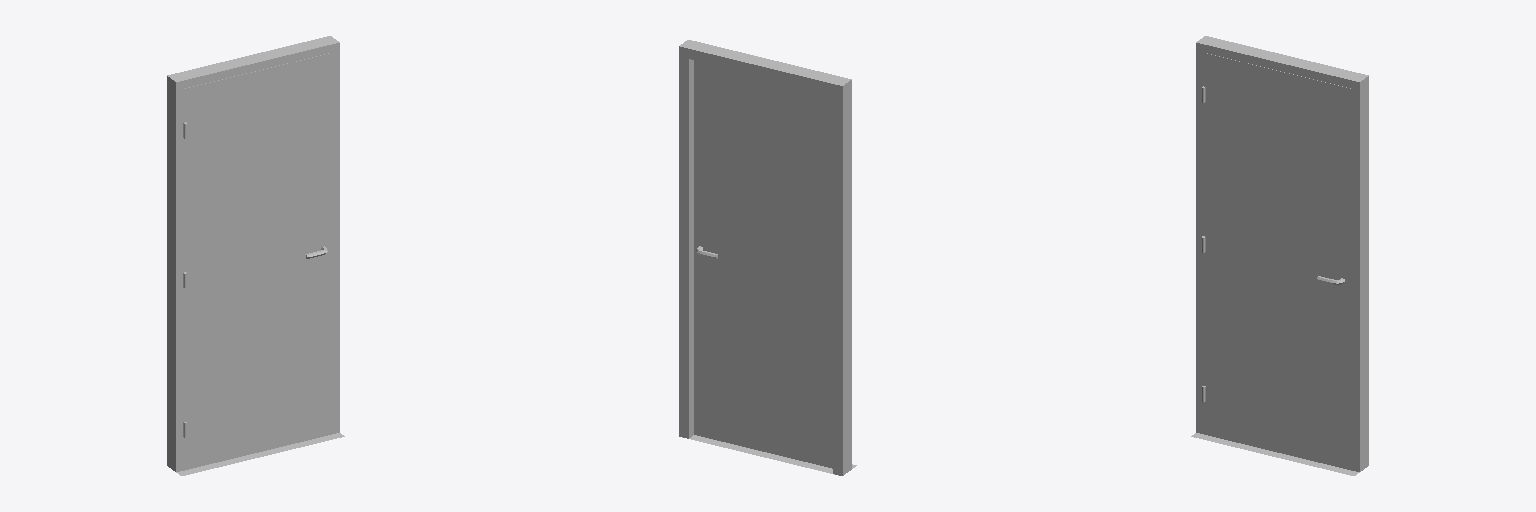
Rendered from puerta.obj.
The picture shows the model from 3 angles: view 1: azimuth 30°, elevation 25°; view 2: azimuth 150°, elevation 25°; view 3: azimuth 330°, elevation 25°; orthographic projection.
Parts seen in each view (by area): view 1: sweethome3d_opening_on_hinge_1_door_10, frame_2, ground_1; view 2: sweethome3d_opening_on_hinge_1_door_10, frame_2, ground_1; view 3: sweethome3d_opening_on_hinge_1_door_10, frame_2, ground_1.
Boxes of the visible parts, box(x1,y1,x2,y2) form: sweethome3d_opening_on_hinge_1_door_10: box(184, 53, 331, 470); frame_2: box(167, 36, 339, 471); ground_1: box(176, 433, 344, 475); sweethome3d_opening_on_hinge_1_door_10: box(694, 60, 832, 468); frame_2: box(679, 40, 851, 475); ground_1: box(682, 435, 856, 475); sweethome3d_opening_on_hinge_1_door_10: box(1204, 53, 1351, 470); frame_2: box(1196, 36, 1368, 471); ground_1: box(1191, 433, 1359, 475).
Bounding box in the file's own units: 91.5 × 208 × 14.5.